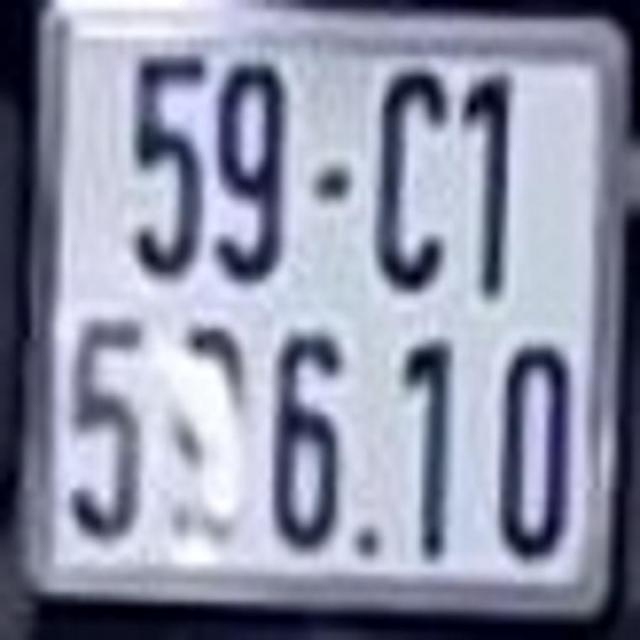0: (498, 341, 571, 558)
1: (456, 66, 529, 317), (402, 338, 458, 581)
5: (72, 310, 144, 548), (130, 48, 203, 277)
6: (271, 331, 349, 559)
9: (215, 57, 289, 296)
C: (368, 58, 455, 313)
